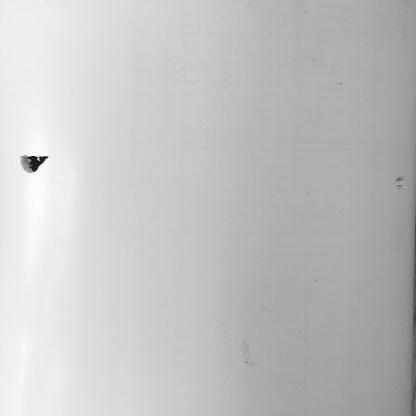kongdong: (11, 151, 55, 176)
